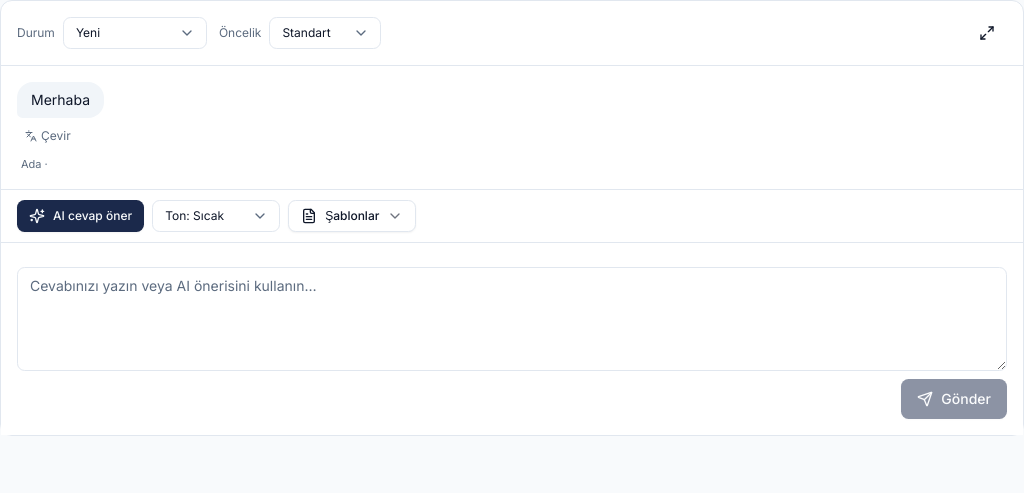
elle cevap duyurusu — açık durumdan › 🚨 tekilleşen 200 + satır hâlâ SIRADA → 'gönderildi' DENMEZ, kuyruk notu gösterilir
Type "Havlular dolapta" into the text box with placeholder "Cevabınızı yazın veya AI önerisini kullanın…" at (512, 318), box [17,266,1007,370]
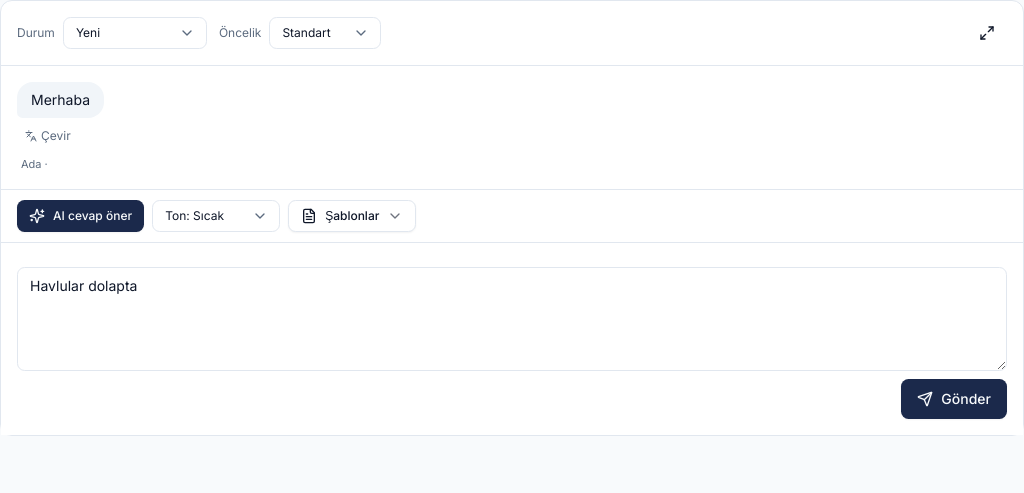
Click the button "Gönder" at (954, 398), box [901,378,1007,418]
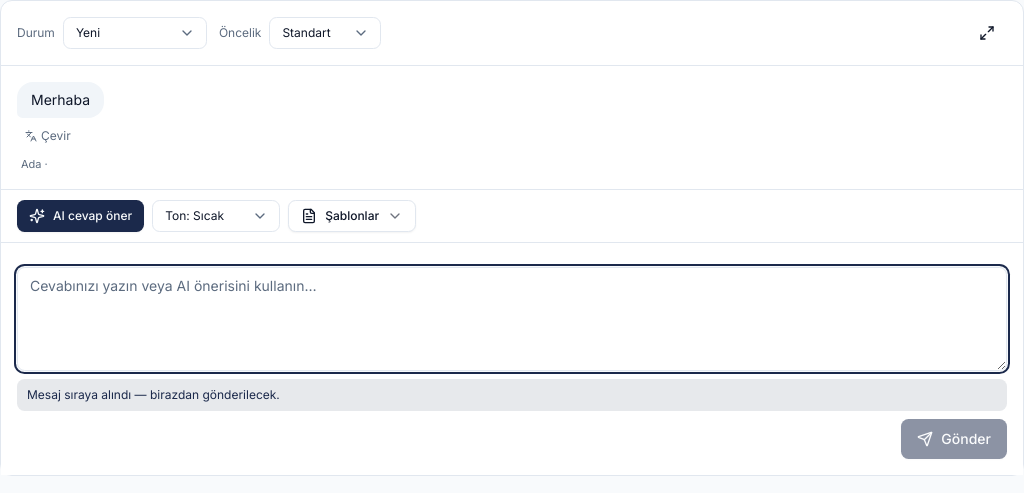
Expected: the text "Mesaj sıraya alındı — birazdan gönderilecek." is shown, [17,378,1007,410]
